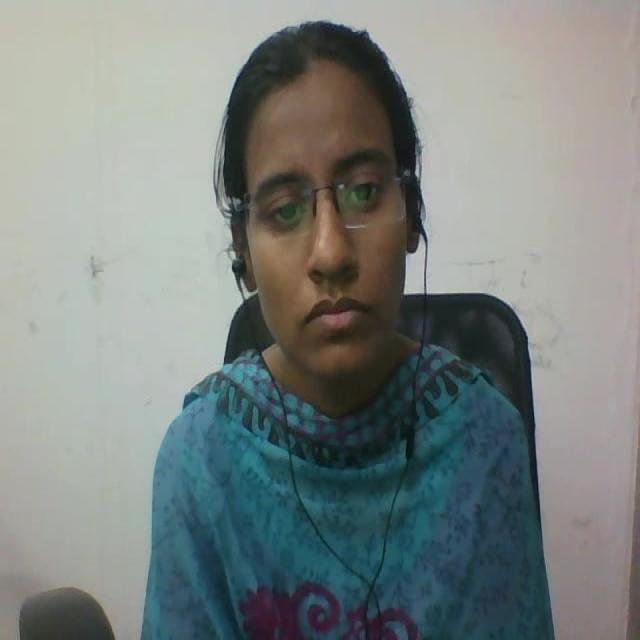Engaged: (207, 0, 477, 412)
